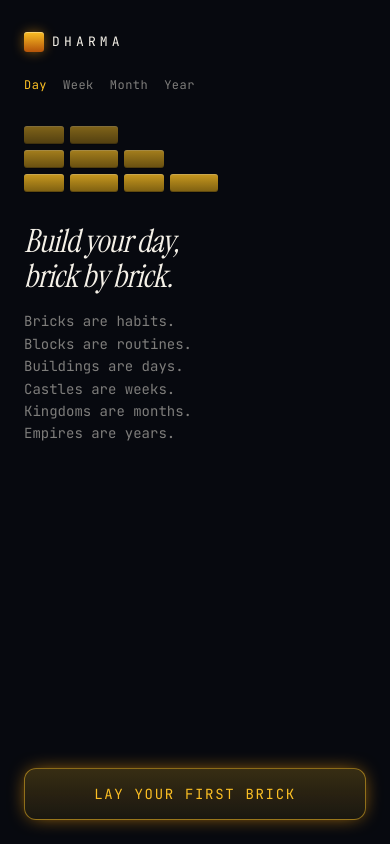
it: Welcome › submit stays disabled until the password has 6+ characters
The image size is (390, 844).
Click the button with test id "welcome-begin".
click(195, 794)  # box [24, 768, 366, 820]
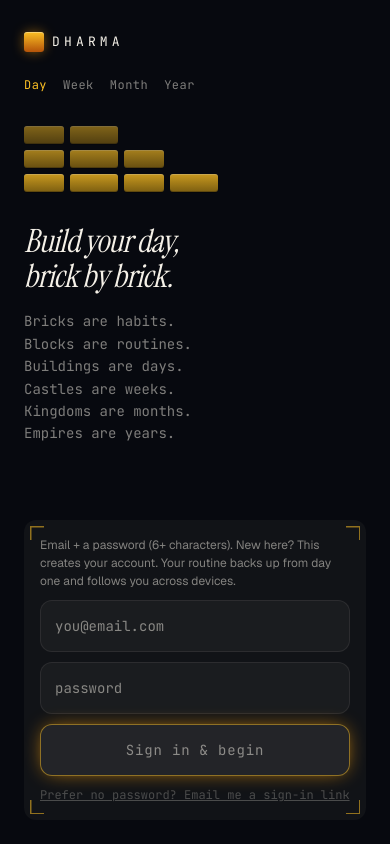
Type "me@example.com" into the field with test id "welcome-email".
click(195, 626); type("me@example.com")  # box [40, 600, 350, 652]
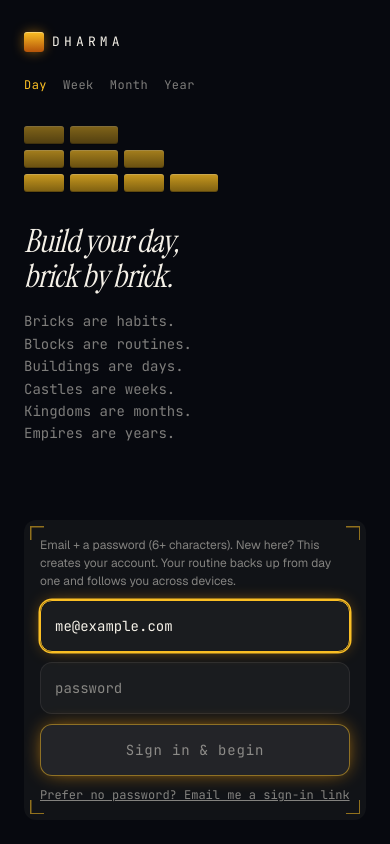
Type "12345" into the password field with test id "welcome-password".
click(195, 688); type("12345")  # box [40, 662, 350, 714]
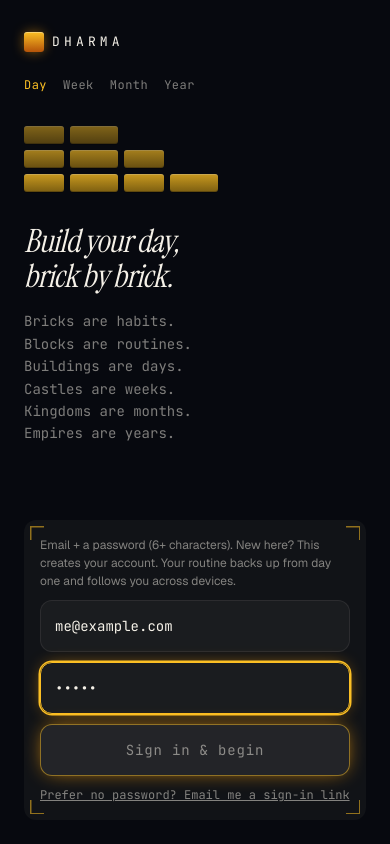
Expected: the button with test id "welcome-submit" is disabled, [40, 724, 350, 776]
Type "6" into the password field with test id "welcome-password".
click(195, 688); type("6")  # box [40, 662, 350, 714]
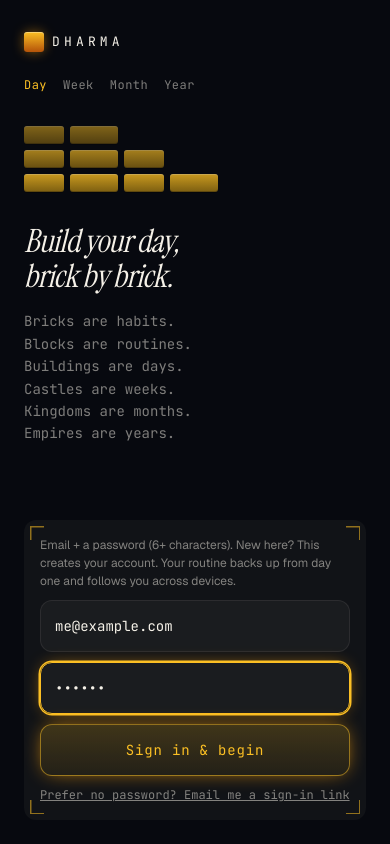
Expected: the button with test id "welcome-submit" is enabled, [40, 724, 350, 776]
